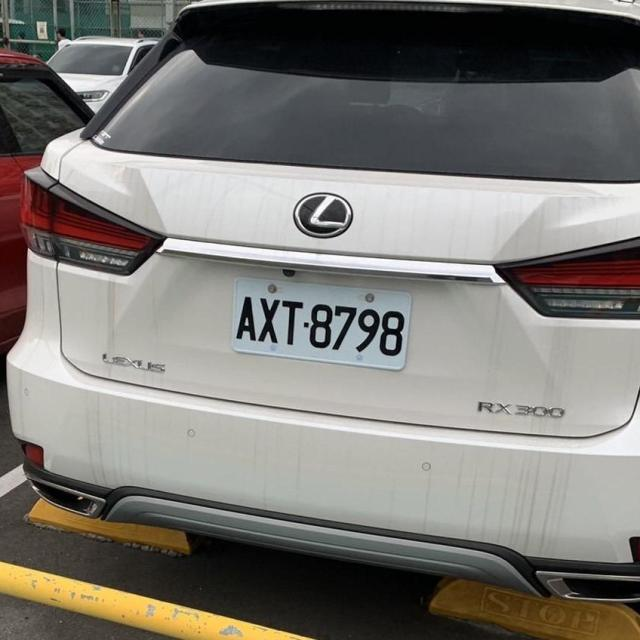W: (230, 272, 414, 376)
